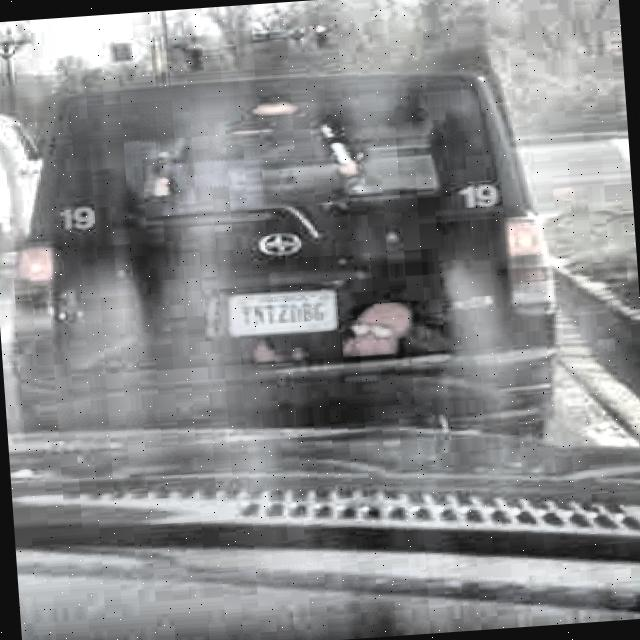license_plate: (230, 286, 340, 339)
